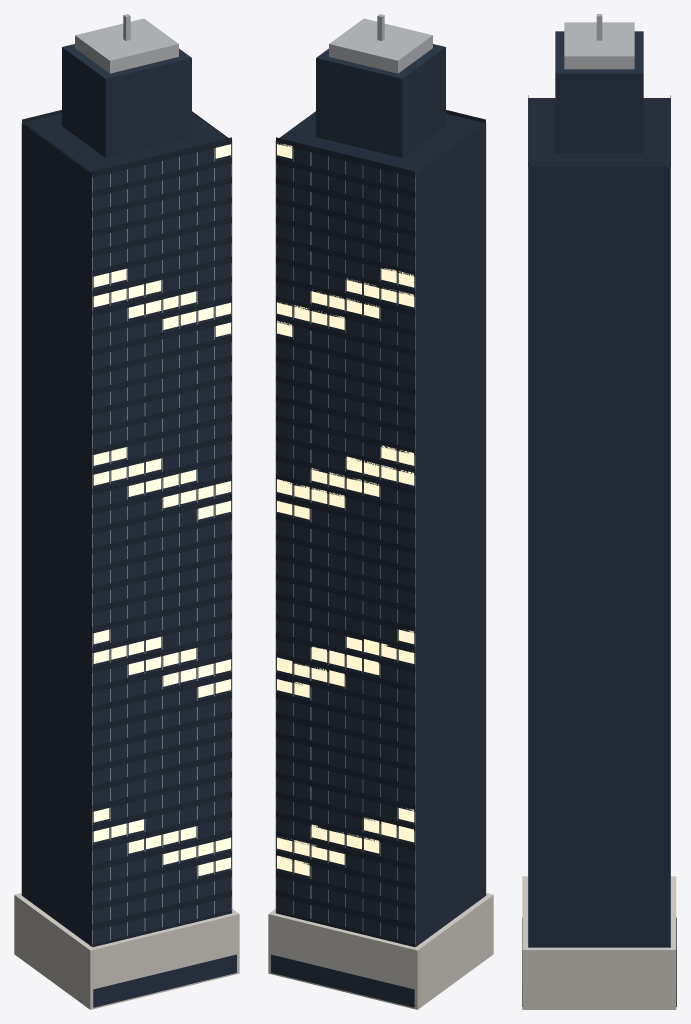
The model's file is tower_office_dark_42.glb.
3 views of the same model, side by side, from view 1: azimuth 30°, elevation 25°; view 2: azimuth 150°, elevation 25°; view 3: azimuth 270°, elevation 25° (orthographic).
Parts seen in each view (by area): view 1: tower_office_dark_42; view 2: tower_office_dark_42; view 3: tower_office_dark_42.
Part boxes in pixels (x1,y1,x2,y2): tower_office_dark_42: (14, 14, 239, 1009); tower_office_dark_42: (268, 14, 493, 1009); tower_office_dark_42: (522, 14, 676, 1009).
Size of the model in its own units: 29.2 by 177 by 25.94.
